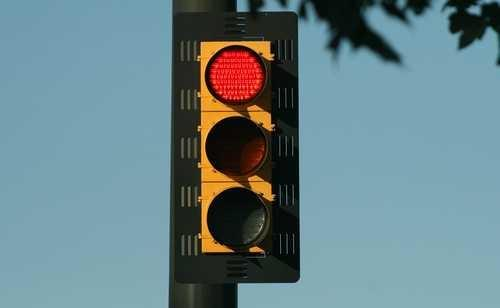red: (192, 24, 290, 272), (197, 39, 273, 113)
